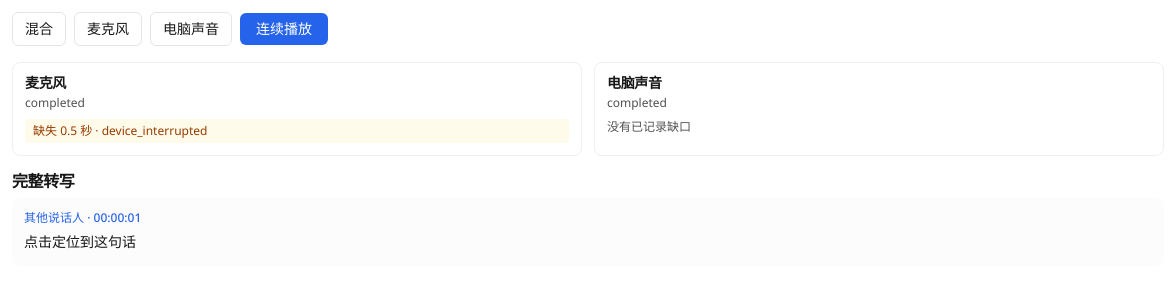
ContinuousSessionPlayer › iteratively skips missing chunks and shows a visible warning
Click the button "连续播放". click: (284, 29)
box: [240,13,328,45]
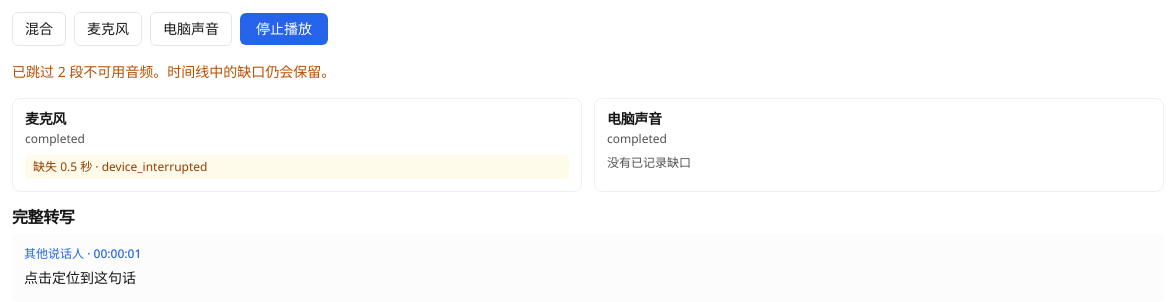
Expected: the text "已跳过 2 段不可用音频。时间线中的缺口仍会保留。" is shown, [12,62,335,81]
